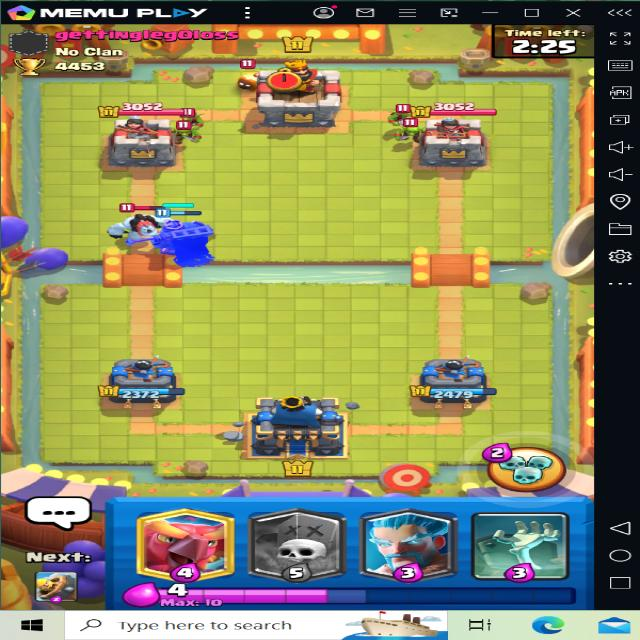fire-spirit: (231, 60, 267, 90)
goblin: (380, 98, 422, 126), (389, 114, 424, 143), (176, 100, 206, 130), (170, 124, 204, 148)
ice-golem: (111, 196, 176, 246)
